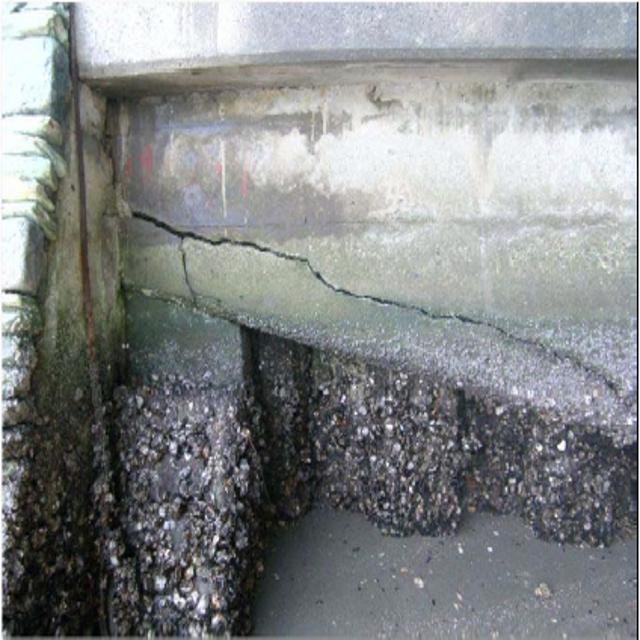crack: (106, 189, 613, 394)
